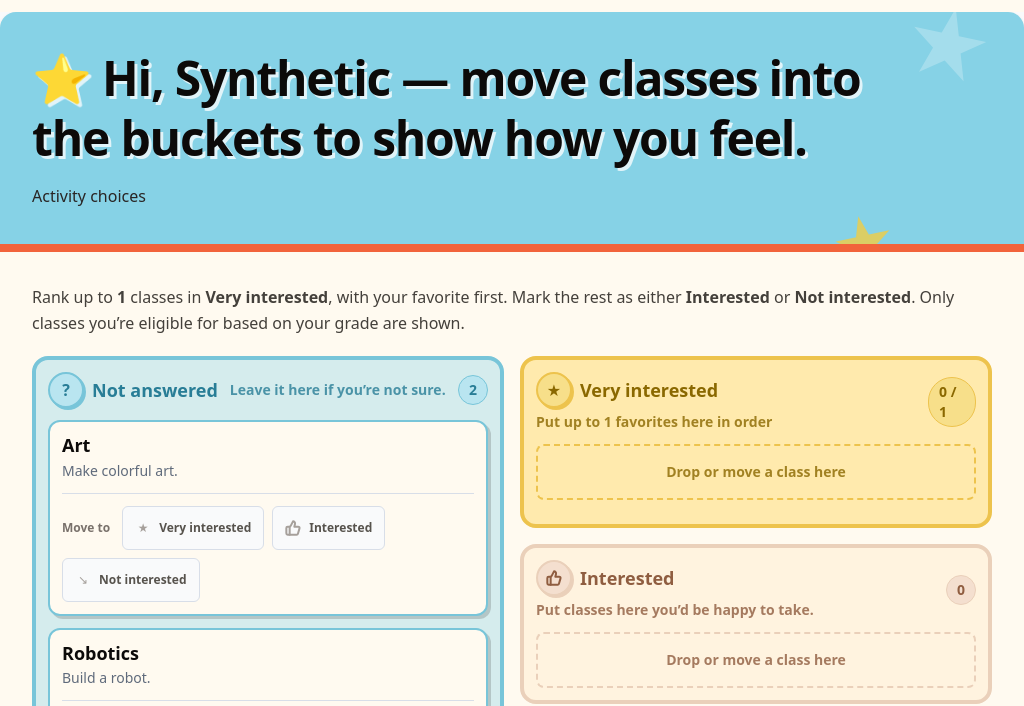
Test: ranked choice preference form › returns the lowest favorite to unanswered when the rank limit is full
expect the button "Art" is shown: met, box [48,420,488,616]
Click the button with aria-label "Move to Very interested" at [193, 528], box [122,506,264,550]
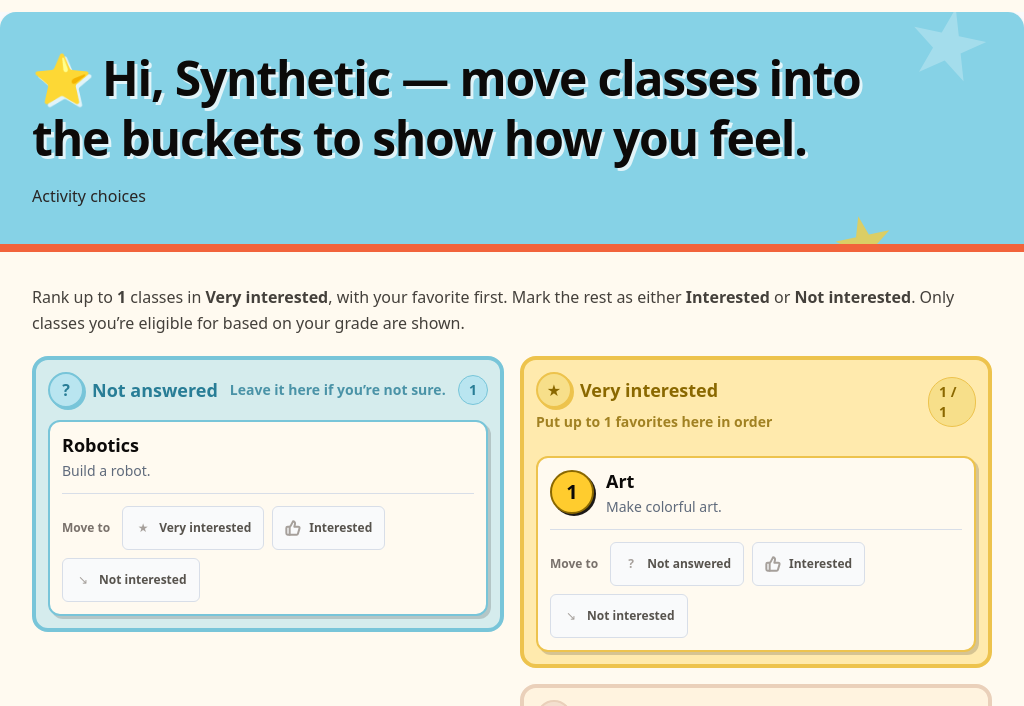
Click the button with aria-label "Move to Very interested" at [193, 528], box [122,506,264,550]
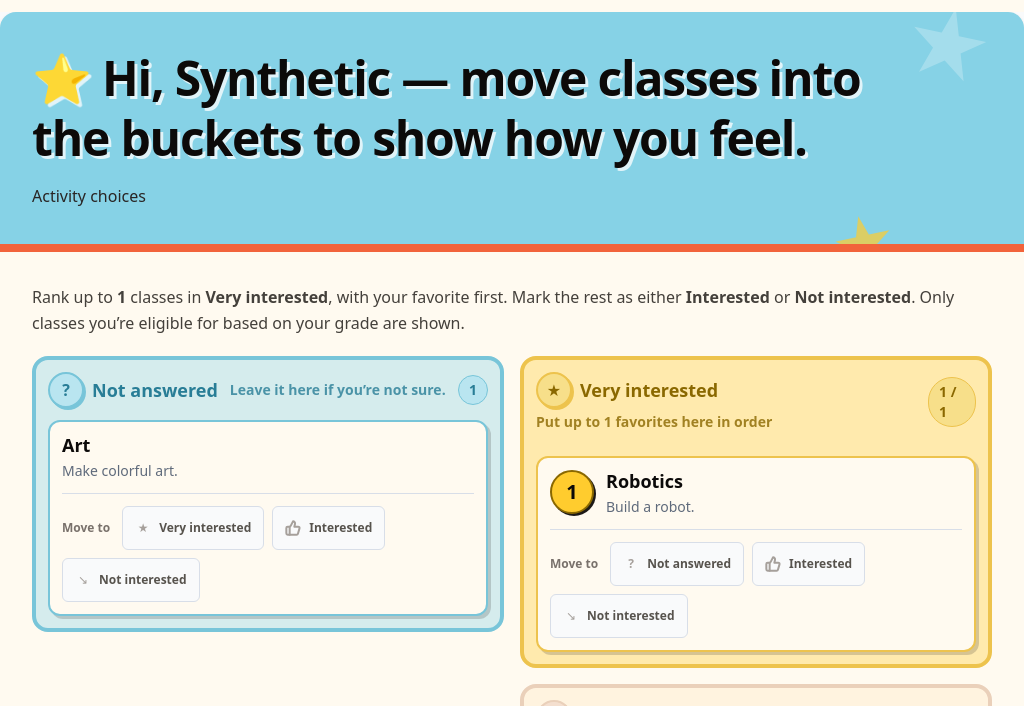
expect the heading "Robotics" is shown: met, box [606,470,695,492]
expect the heading "Art" is shown: met, box [62,433,90,457]
